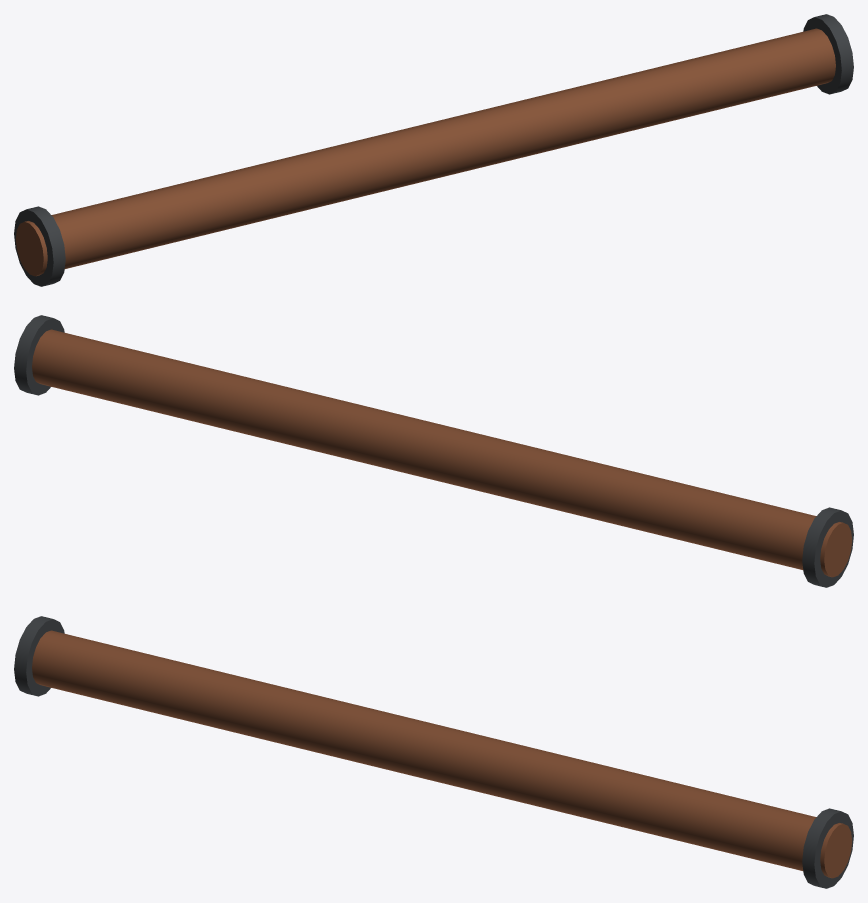
Rendered from SM_Pipe_Straight.fbx.
The picture shows the model from 3 angles, top to bottom: view 1: azimuth 30°, elevation 25°; view 2: azimuth 150°, elevation 25°; view 3: azimuth 330°, elevation 25°; orthographic projection.
Parts seen in each view (by area): view 1: SM_Pipe_Straight; view 2: SM_Pipe_Straight; view 3: SM_Pipe_Straight.
Part boxes in pixels (<box>): SM_Pipe_Straight: <box>14,14,853,286</box>; SM_Pipe_Straight: <box>14,315,853,587</box>; SM_Pipe_Straight: <box>14,616,853,888</box>.
Size of what is drawn, in the model's own units: 4 by 0.34 by 0.34.
